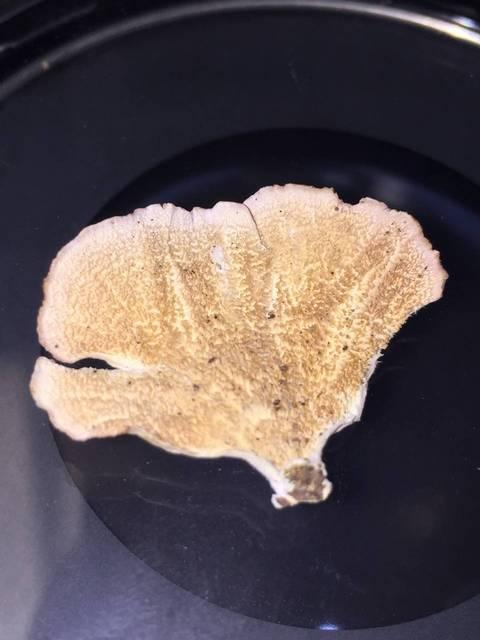Non-edible Mushroom: (28, 180, 449, 510)
